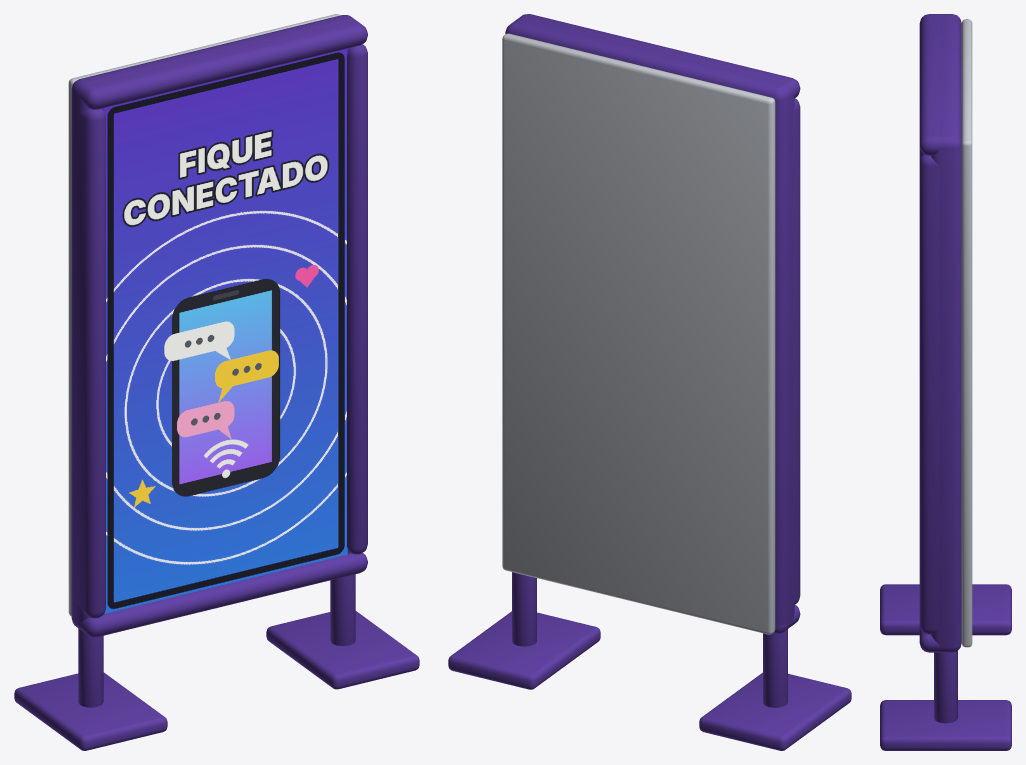
The model's file is vertical_fique_conectado.glb.
3 views of the same model, side by side, from view 1: azimuth 30°, elevation 25°; view 2: azimuth 150°, elevation 25°; view 3: azimuth 270°, elevation 25° (orthographic). The views are drawn at different scales.
Parts seen in each view (by area): view 1: vertical_fique_conectado; view 2: vertical_fique_conectado; view 3: vertical_fique_conectado.
Boxes of the visible parts, x1,y1,x2,y2 form: vertical_fique_conectado: (14,14,419,750); vertical_fique_conectado: (448,14,851,750); vertical_fique_conectado: (880,14,1011,750).
Size of the model in its own units: 1.4 by 2.51 by 0.5.
Materials: 2 (2 with a texture image).
